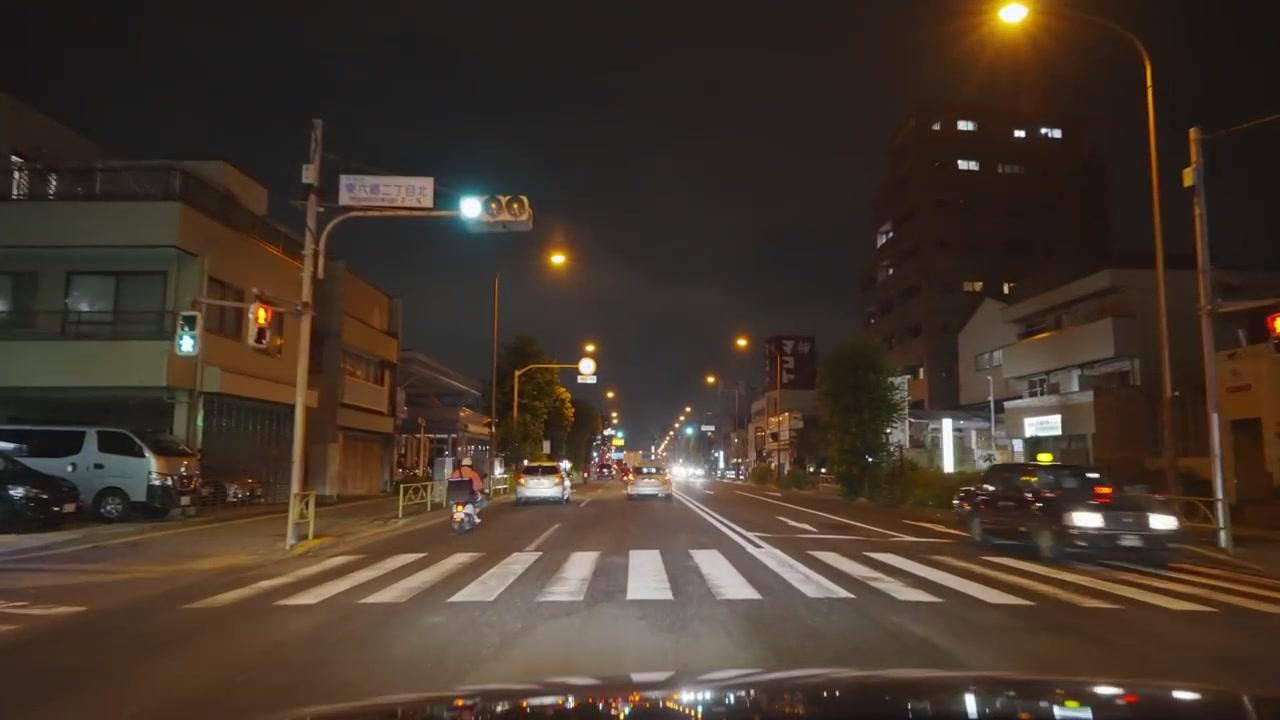car: (957, 462, 1181, 563), (0, 426, 177, 522), (0, 448, 84, 528), (144, 434, 219, 508), (516, 460, 571, 505), (626, 472, 673, 500)
motorcycle: (449, 494, 481, 534)
person: (446, 458, 484, 524)
traffic light: (251, 302, 276, 351), (174, 311, 200, 356), (1267, 310, 1280, 352), (683, 423, 697, 436)
truck: (0, 425, 172, 522)
